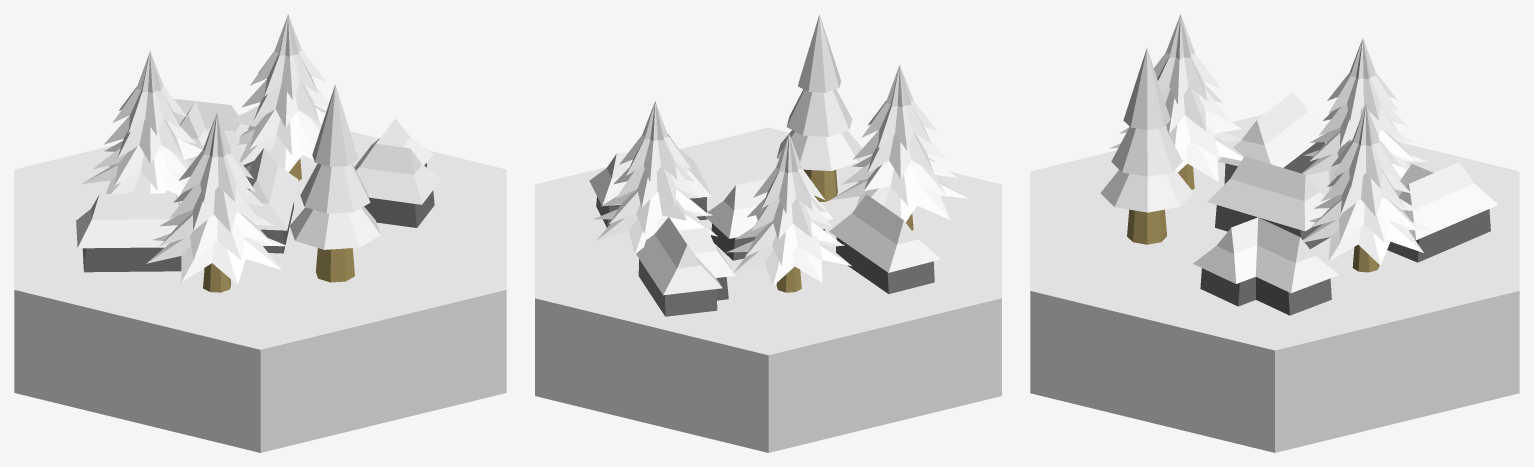
File: Casas_Bosque_Pinos_Nieve_4.fbx
3 views of the same model, side by side, from view 1: azimuth 30°, elevation 25°; view 2: azimuth 150°, elevation 25°; view 3: azimuth 270°, elevation 25° (orthographic). The views are drawn at different scales.
Parts seen in each view (by area): view 1: Casas_Bosque_Pinos_Nieve_4; view 2: Casas_Bosque_Pinos_Nieve_4; view 3: Casas_Bosque_Pinos_Nieve_4.
Boxes of the visible parts, x1=… form: Casas_Bosque_Pinos_Nieve_4: x1=14, y1=14, x2=506, y2=452; Casas_Bosque_Pinos_Nieve_4: x1=535, y1=14, x2=1001, y2=452; Casas_Bosque_Pinos_Nieve_4: x1=1030, y1=14, x2=1519, y2=452.
Bounding box in the file's own units: 200 × 114 × 173.
